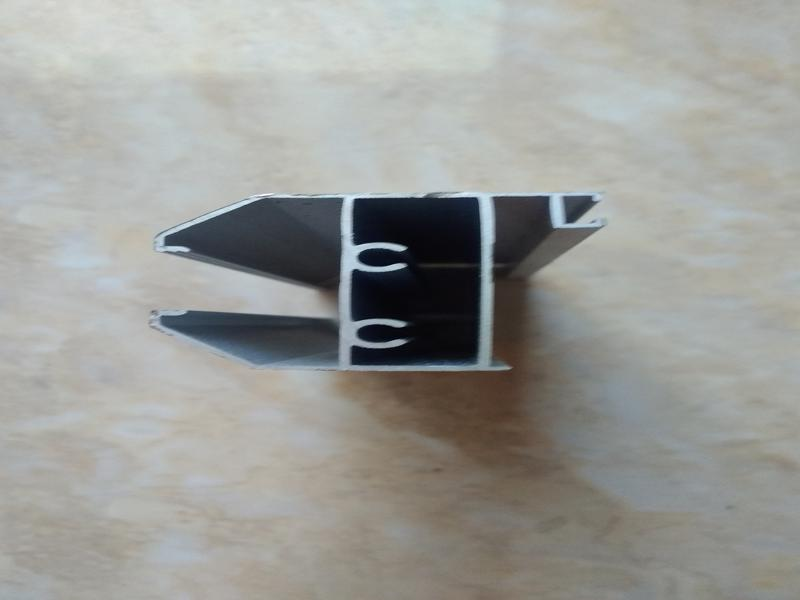Aluminium_3: (129, 146, 638, 396)
